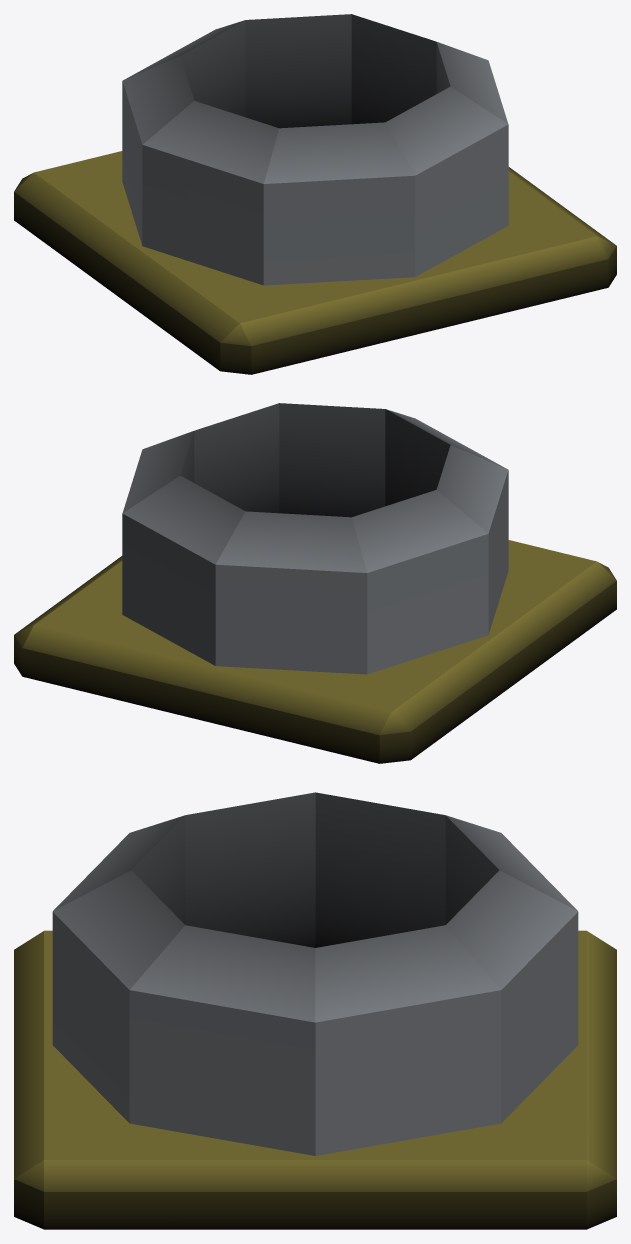
The model's file is socket.dae.
3 renders of one model, top to bottom at view 1: azimuth 30°, elevation 25°; view 2: azimuth 150°, elevation 25°; view 3: azimuth 270°, elevation 25°, orthographic. The views are drawn at different scales.
Parts seen in each view (by area): view 1: Torus, Cube; view 2: Torus, Cube; view 3: Torus, Cube.
Boxes of the visible parts, box(x1,y1,x2,y2) form: Torus: box(122, 14, 508, 285); Cube: box(14, 151, 616, 374); Torus: box(122, 403, 508, 674); Cube: box(14, 540, 616, 763); Torus: box(52, 792, 578, 1155); Cube: box(14, 930, 616, 1229).
Bounding box in the file's own units: 2.87 × 2.87 × 1.22.
